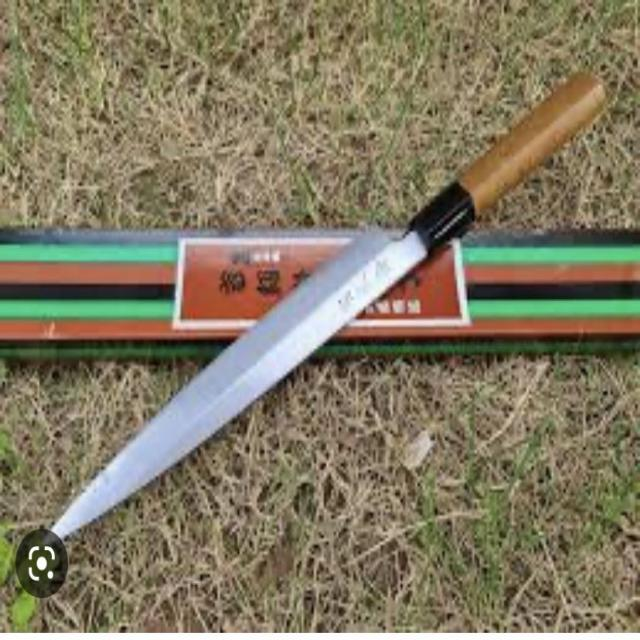Knife: (36, 64, 608, 537)
